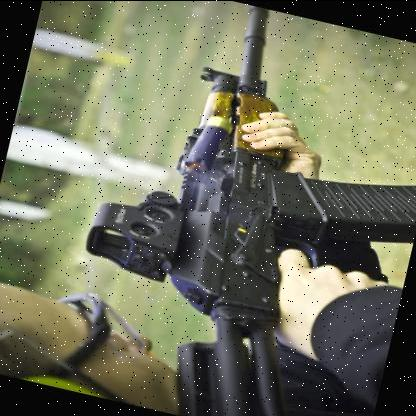rifle: (48, 0, 416, 416)
